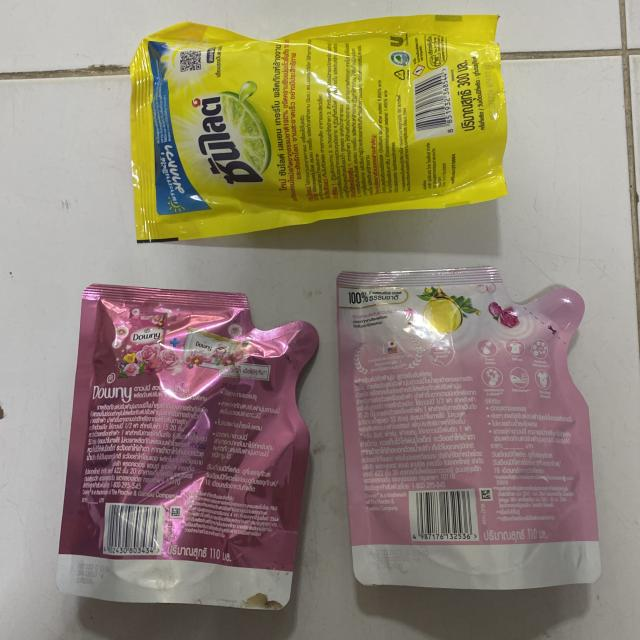plastik: (130, 15, 508, 241), (58, 285, 319, 609), (336, 268, 599, 589)
